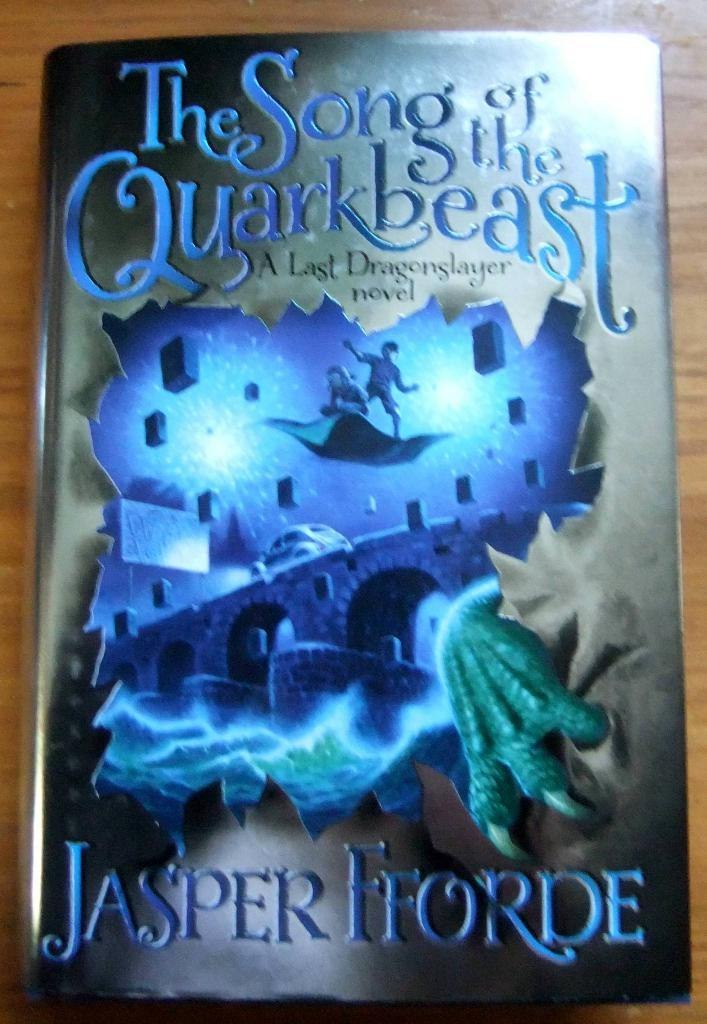book: (30, 0, 644, 1024)
